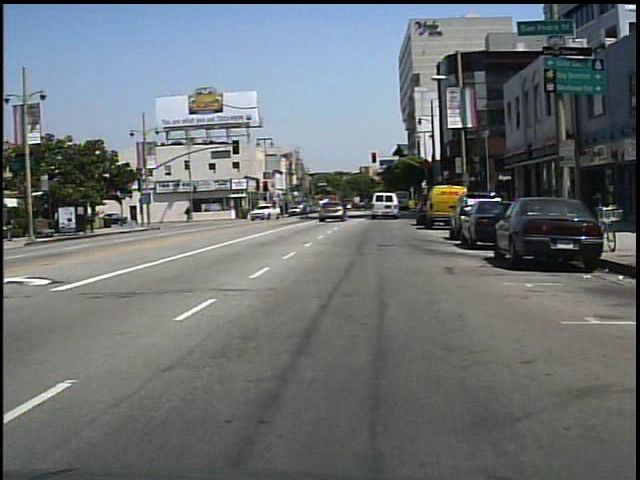person: (5, 209, 25, 246), (302, 195, 315, 224), (187, 205, 194, 224)
